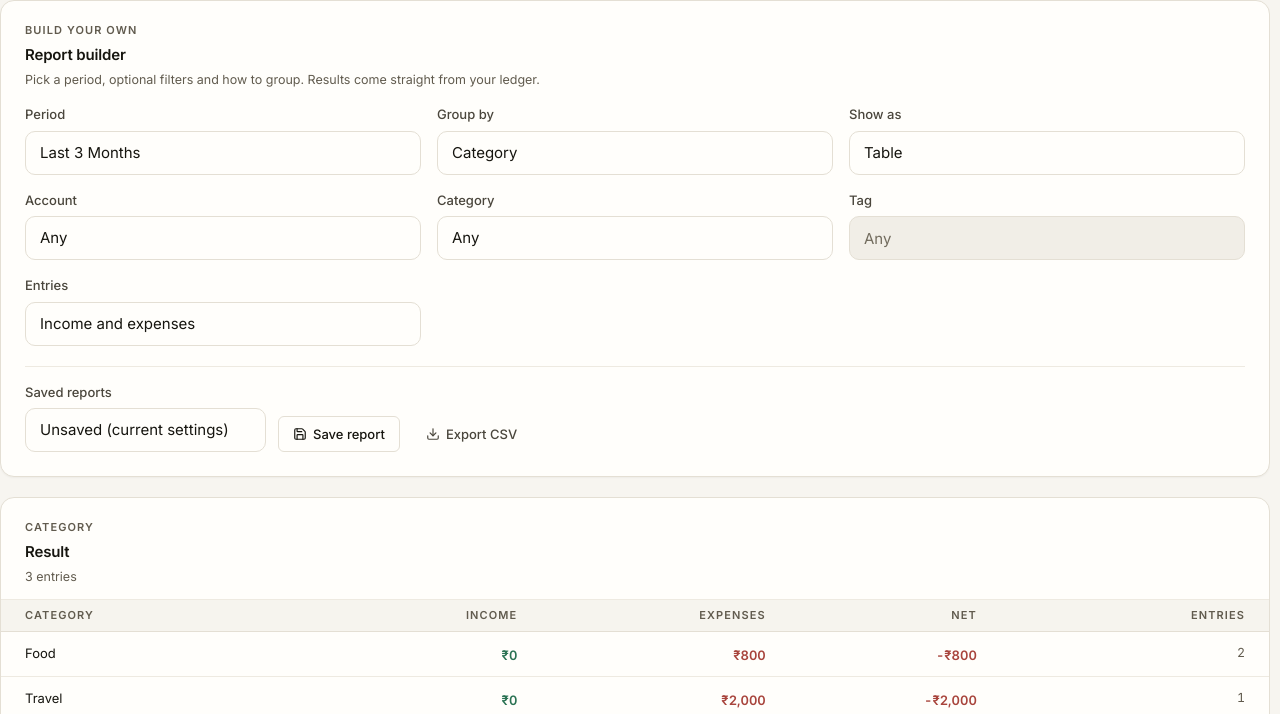
Test: <ReportBuilderTab> (§Phase 7) › loads a saved report's settings into the form
Select "By account" in the dropdown labelled "Saved reports": point(146, 430) x1=25 y1=408 x2=266 y2=452
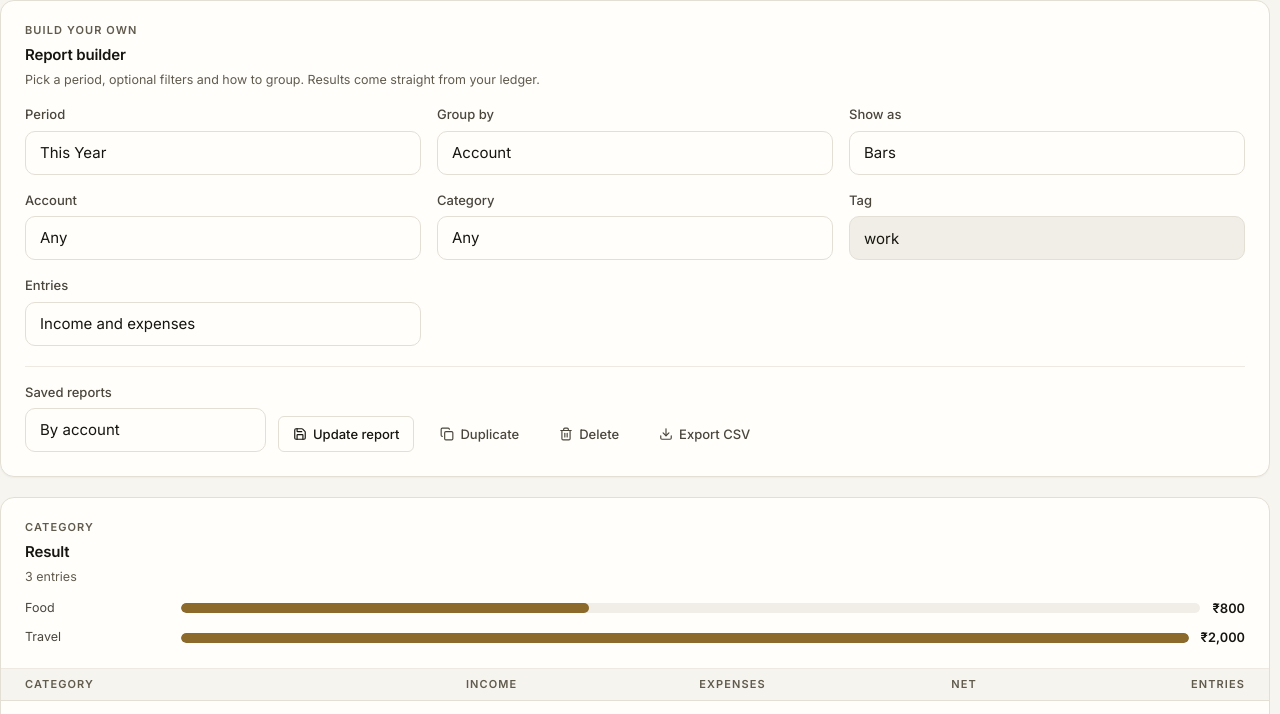
Expected: the dropdown labelled "Group by" shows "Account", x1=437 y1=131 x2=833 y2=175
Expected: the dropdown labelled "Period" shows "This Year", x1=25 y1=131 x2=421 y2=175
Expected: the field labelled "Tag" holds "work", x1=849 y1=216 x2=1245 y2=260
